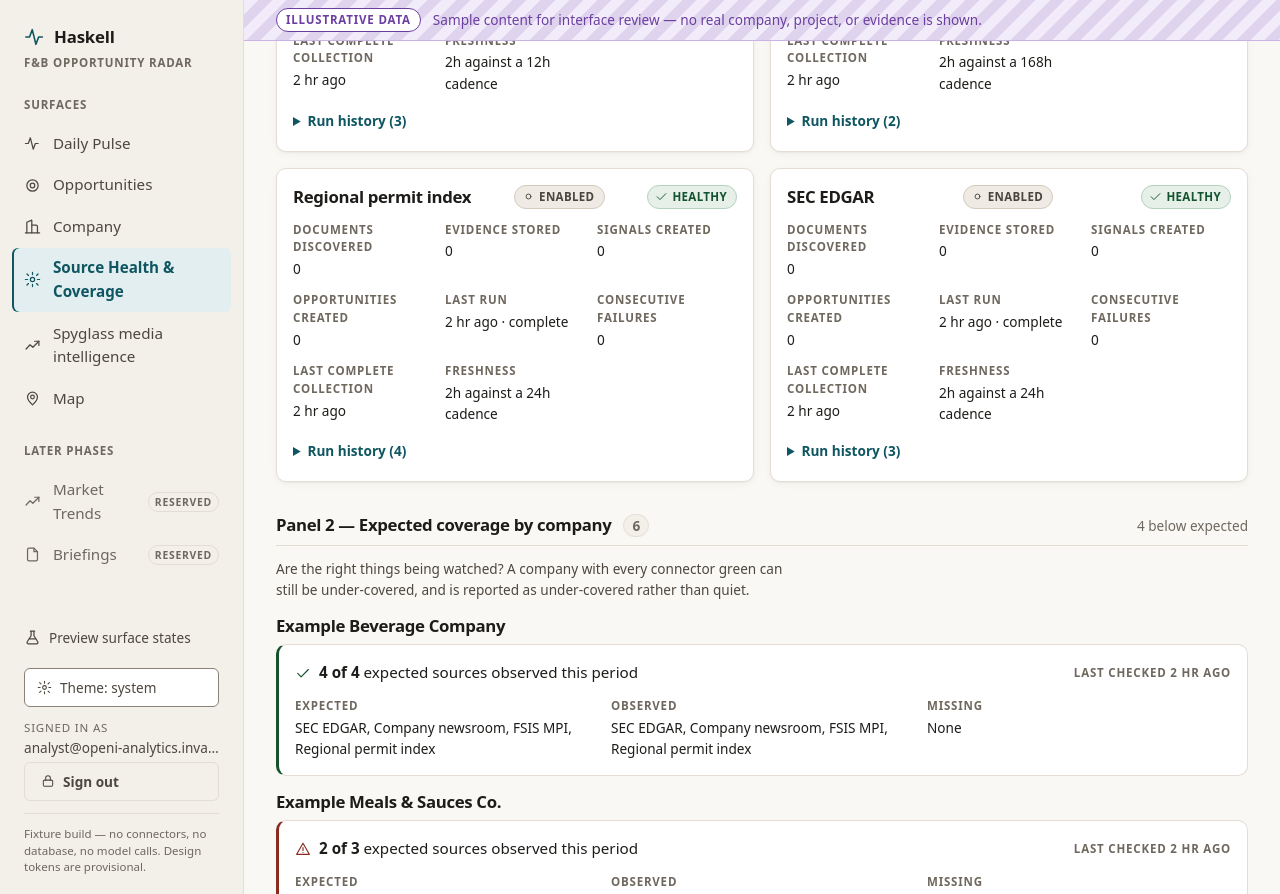
Test case: connector health › keeps failures on the record after a connector recovers
(page scrolled)
Check: the 1st text "Healthy" is shown, box [647,185,737,208]
Step 1. Click the heading "Run history (4)" → {"x": 357, "y": 450}, box [307,441,406,460]
(page scrolled)
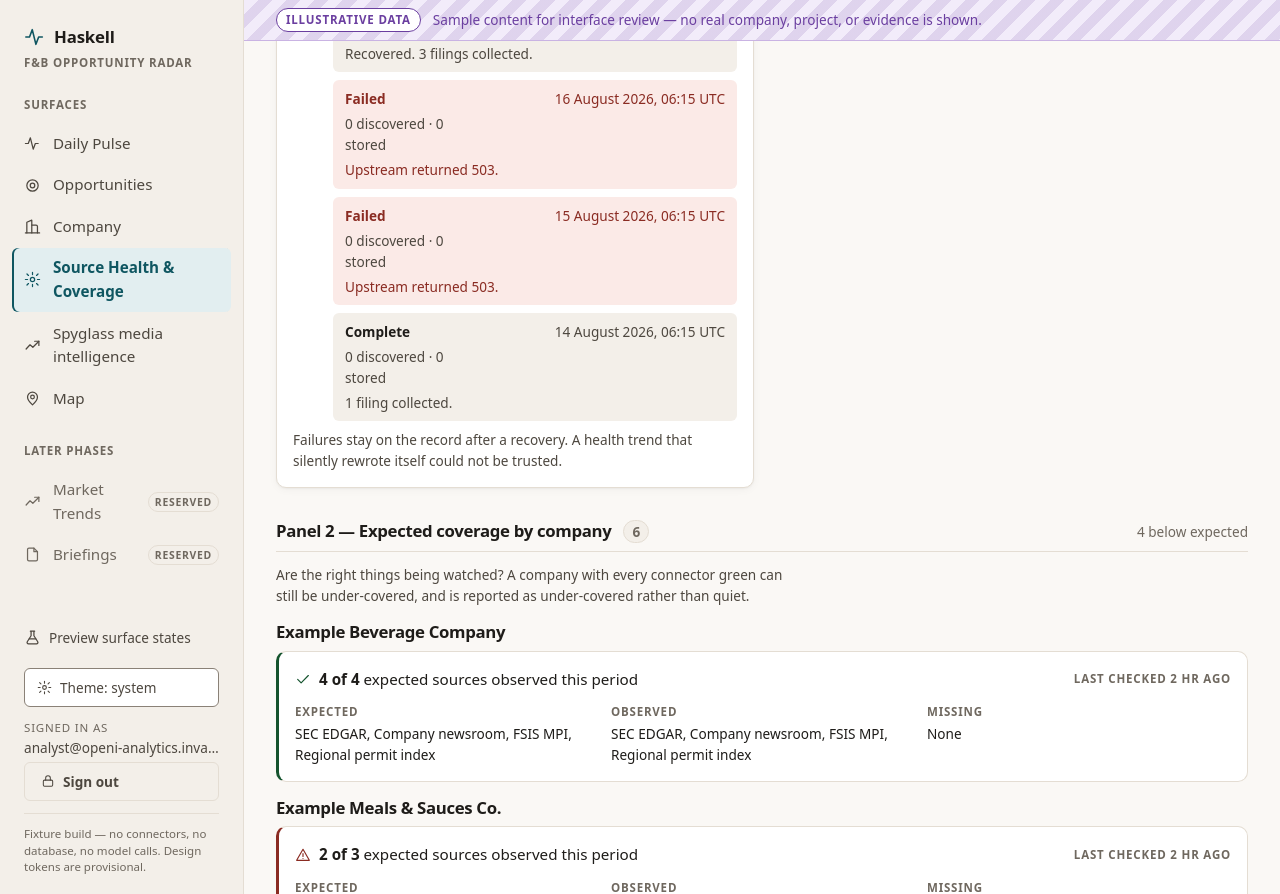
Check: the number of list items with class "run--failure" is 2, box [333,80,737,189]; [333,196,737,305]
Check: the text "Failures stay on the record after a recovery" is shown, box [293,430,692,470]
